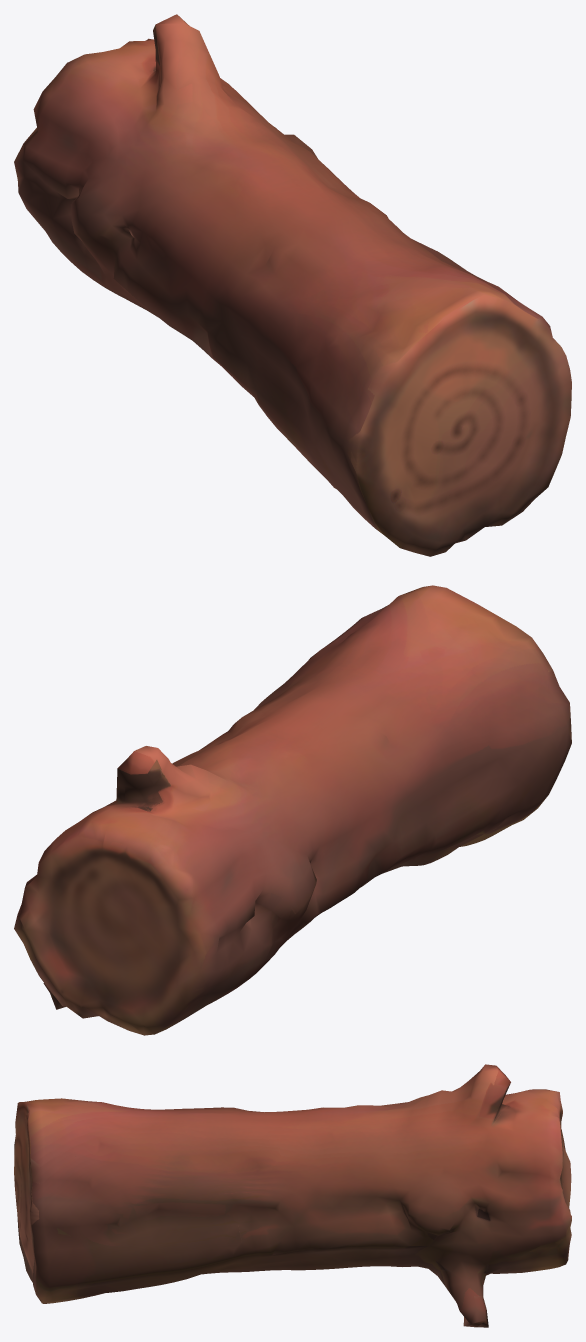
The model's file is wood_log.glb.
The picture shows the model from 3 angles, top to bottom: view 1: azimuth 30°, elevation 25°; view 2: azimuth 150°, elevation 25°; view 3: azimuth 270°, elevation 25°; orthographic projection. The views are drawn at different scales.
Parts seen in each view (by area): view 1: tripo_node_c668d446-7611-47fe-9ba7-6d5cf8ee7969_S-Remesh; view 2: tripo_node_c668d446-7611-47fe-9ba7-6d5cf8ee7969_S-Remesh; view 3: tripo_node_c668d446-7611-47fe-9ba7-6d5cf8ee7969_S-Remesh.
Part boxes in pixels (x1,y1,x2,y2): tripo_node_c668d446-7611-47fe-9ba7-6d5cf8ee7969_S-Remesh: (14, 14, 571, 556); tripo_node_c668d446-7611-47fe-9ba7-6d5cf8ee7969_S-Remesh: (14, 585, 571, 1035); tripo_node_c668d446-7611-47fe-9ba7-6d5cf8ee7969_S-Remesh: (14, 1064, 571, 1327).
Size of the model in its own units: 0.3988 by 0.4541 by 0.9976.
1 material, 1 textured.
